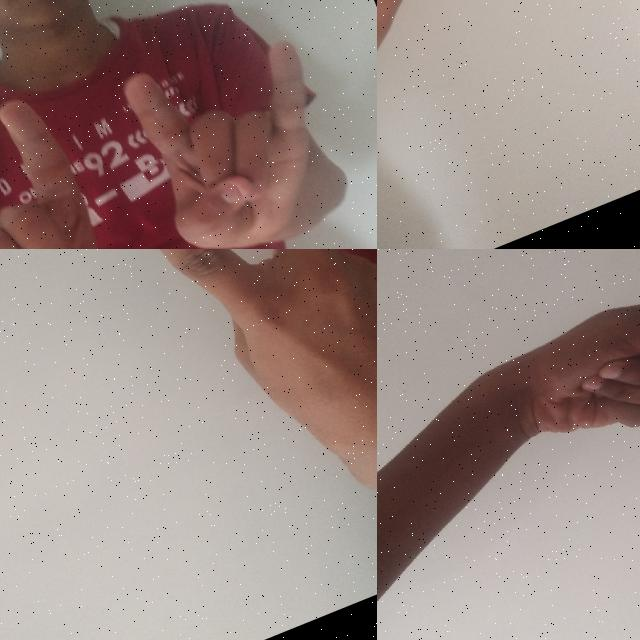Corna: (104, 8, 369, 249), (0, 79, 134, 249)
Dulya: (468, 261, 640, 479)
Middle Finger: (377, 0, 532, 127)
Reversed Victory: (94, 249, 377, 547)
